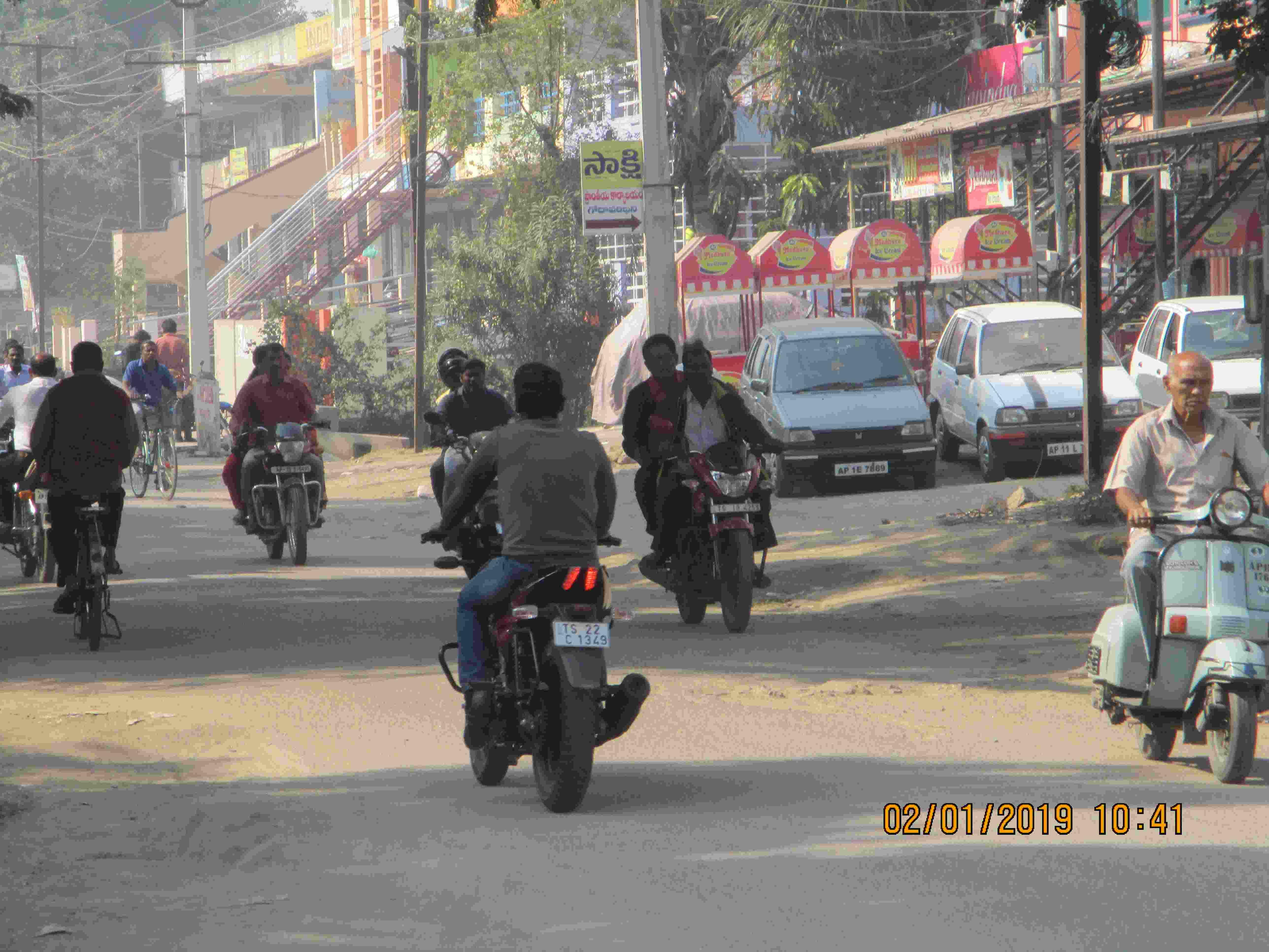plate: (545, 609, 626, 660)
